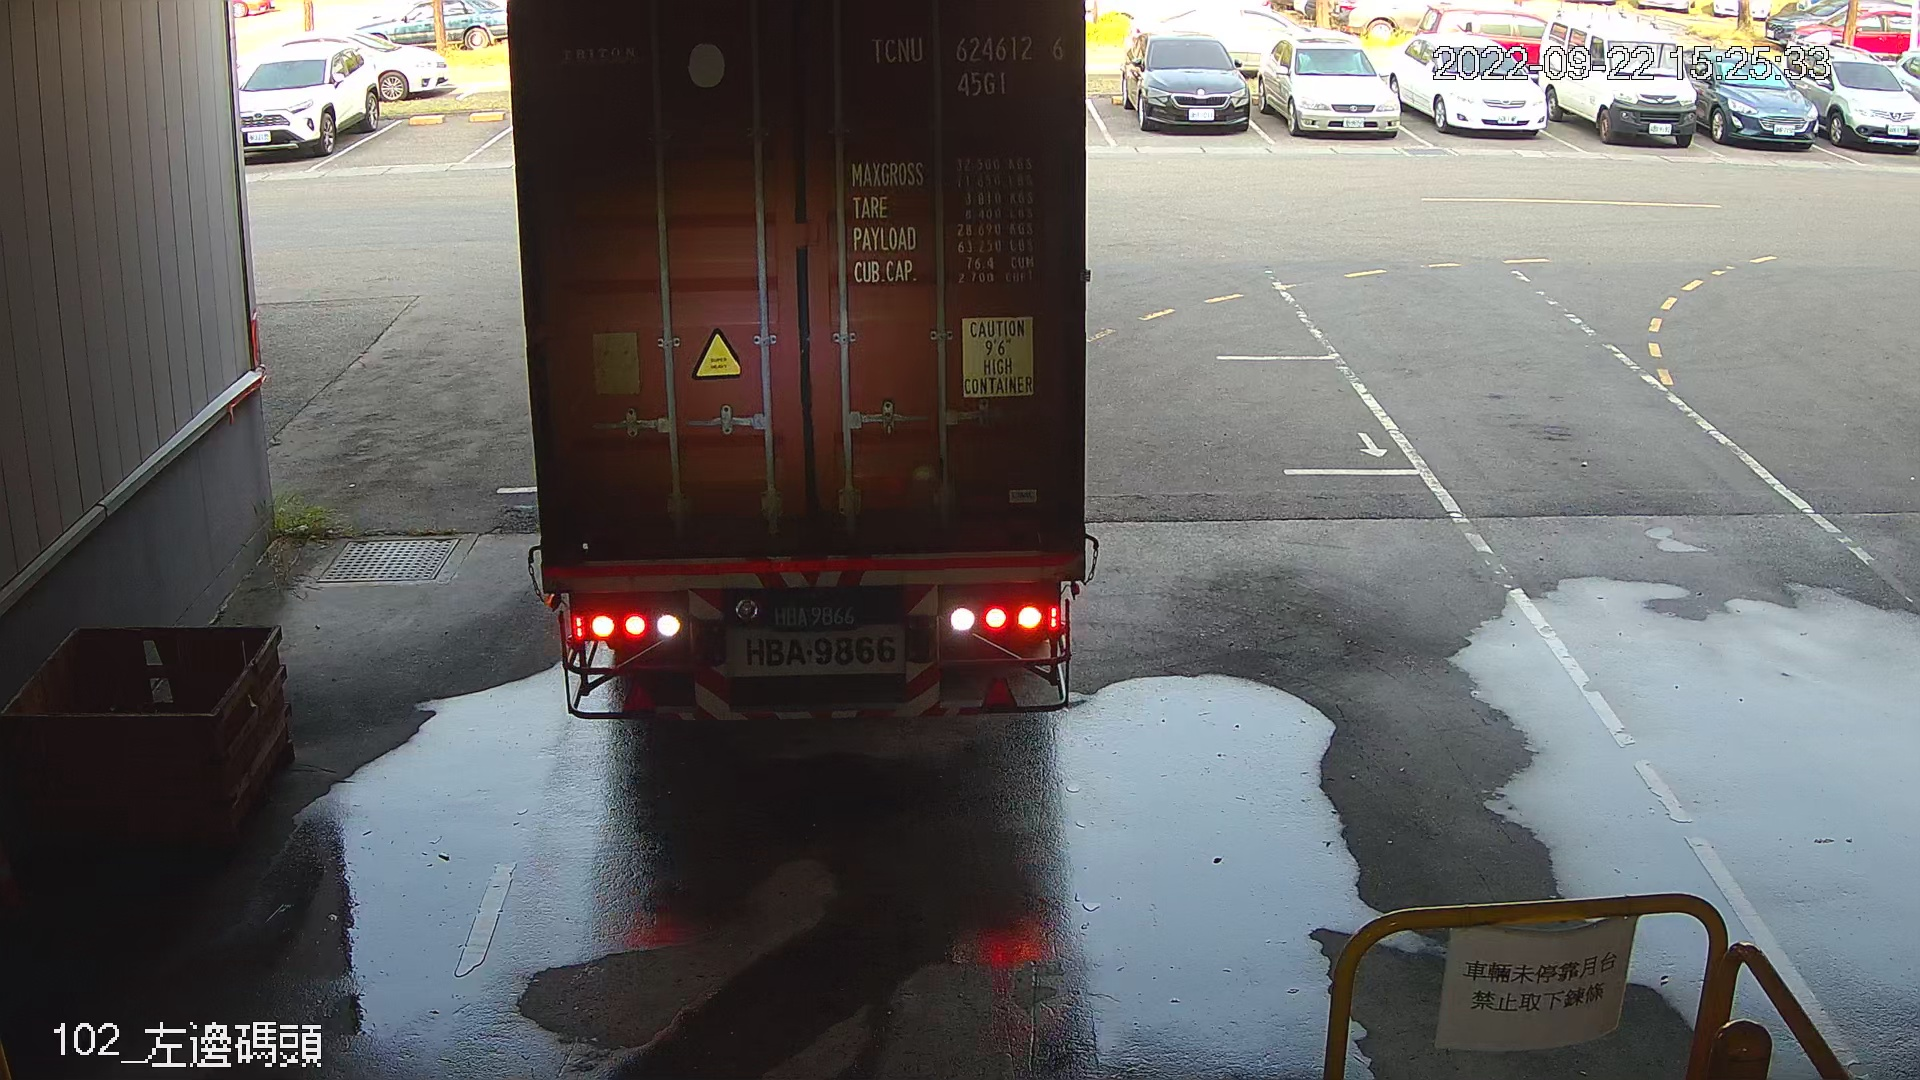container: (862, 26, 1075, 99)
